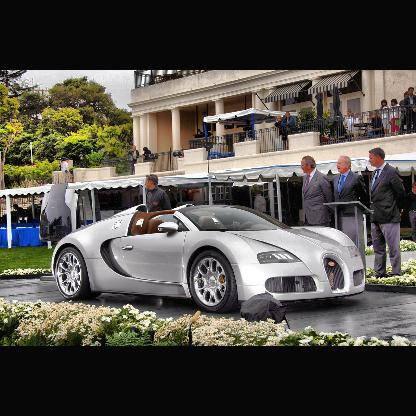Bugatti Veyron 16-4 Convertible 2009: (52, 204, 366, 317)
